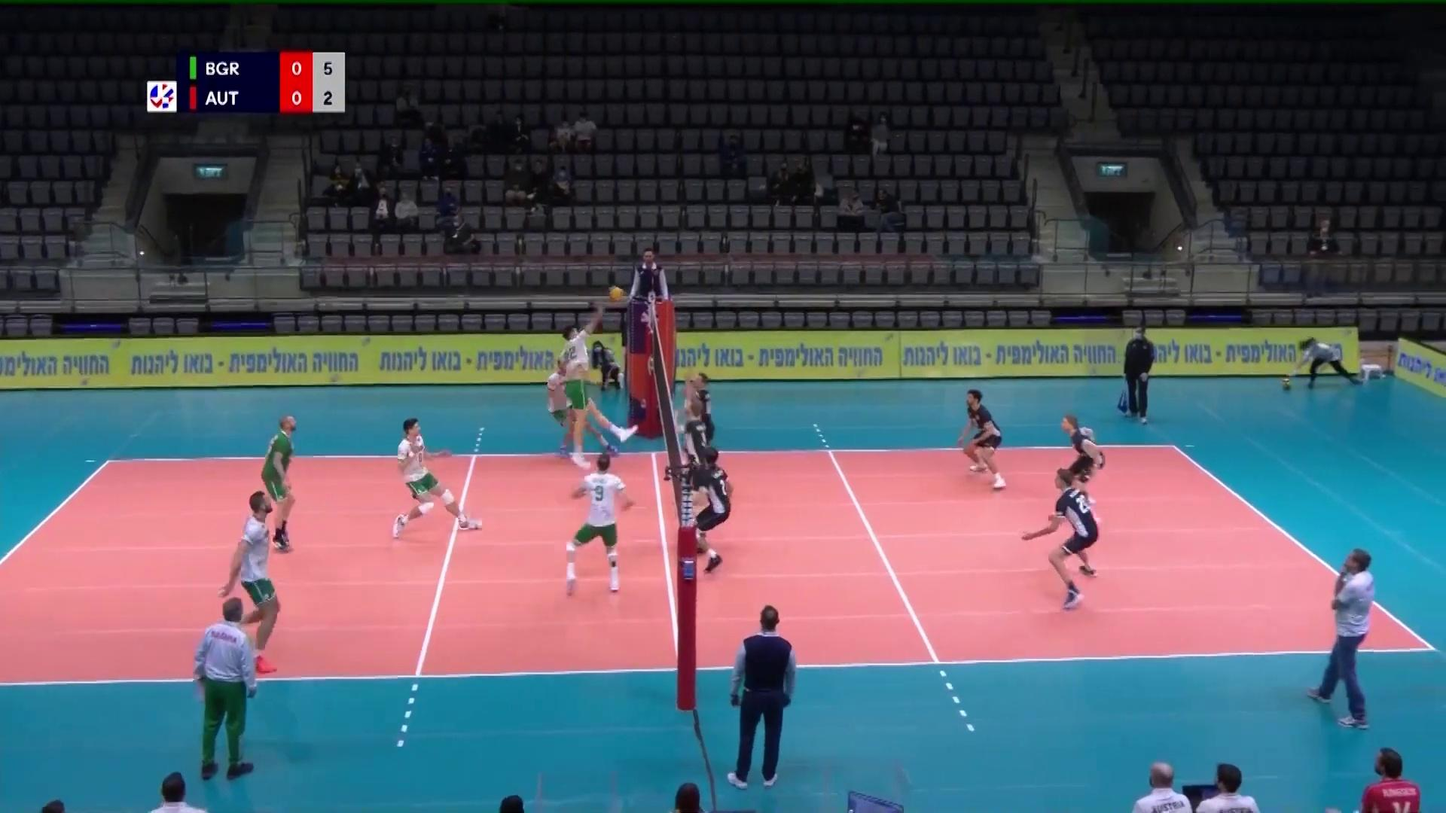ball: (608, 285, 623, 303)
